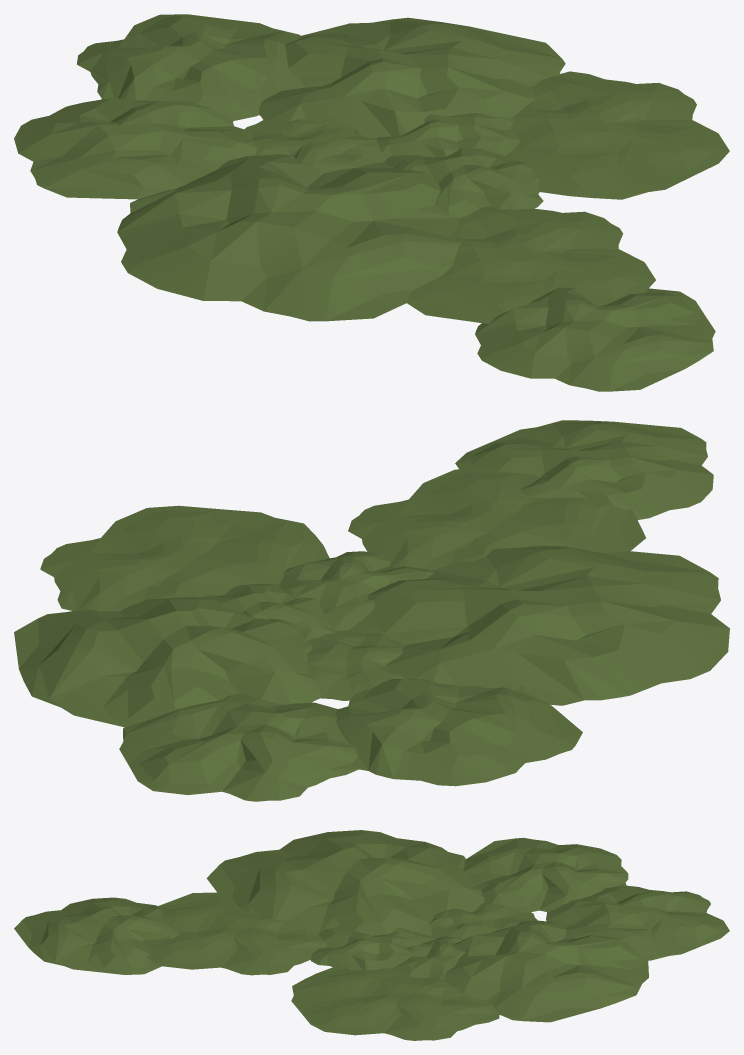
File: SM_Env_GroundMound.glb
3 renders of one model, top to bottom at view 1: azimuth 30°, elevation 25°; view 2: azimuth 150°, elevation 25°; view 3: azimuth 270°, elevation 25°, orthographic. The views are drawn at different scales.
Parts seen in each view (by area): view 1: SM_Env_GroundMound; view 2: SM_Env_GroundMound; view 3: SM_Env_GroundMound.
Part boxes in pixels (x1,y1,x2,y2): SM_Env_GroundMound: (14,14,729,391); SM_Env_GroundMound: (14,420,729,801); SM_Env_GroundMound: (14,830,729,1040).
Size of the model in its own units: 233 by 15.11 by 334.
Materials: 1 (1 with a texture image).
